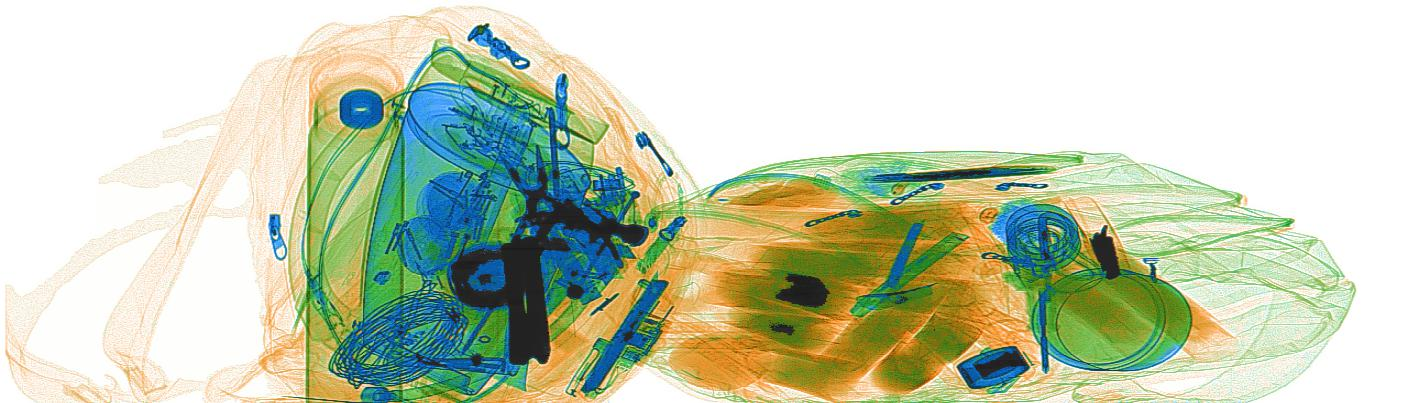knife: (577, 270, 669, 394), (848, 230, 970, 318)
